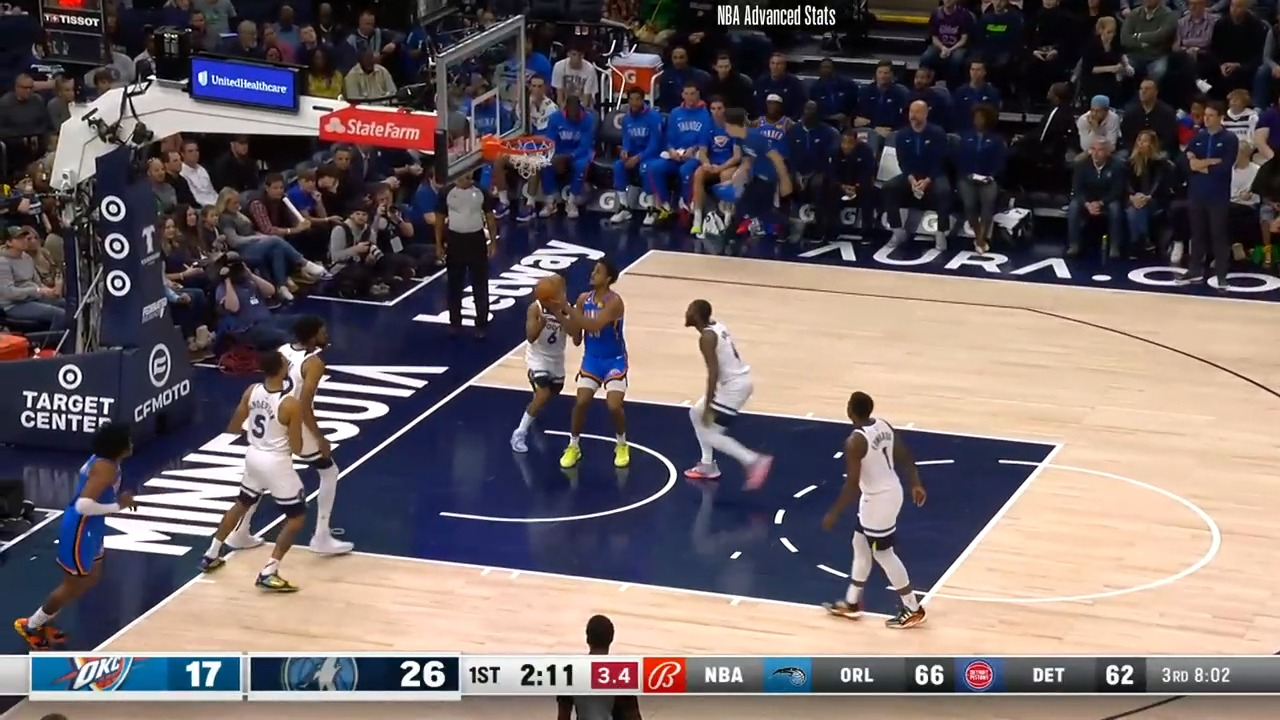net: (478, 128, 555, 189)
player: (209, 345, 328, 594), (13, 425, 135, 651), (824, 392, 928, 633), (673, 298, 773, 493), (269, 313, 346, 561), (556, 260, 635, 488), (514, 273, 597, 473)
referee: (435, 166, 502, 342)
